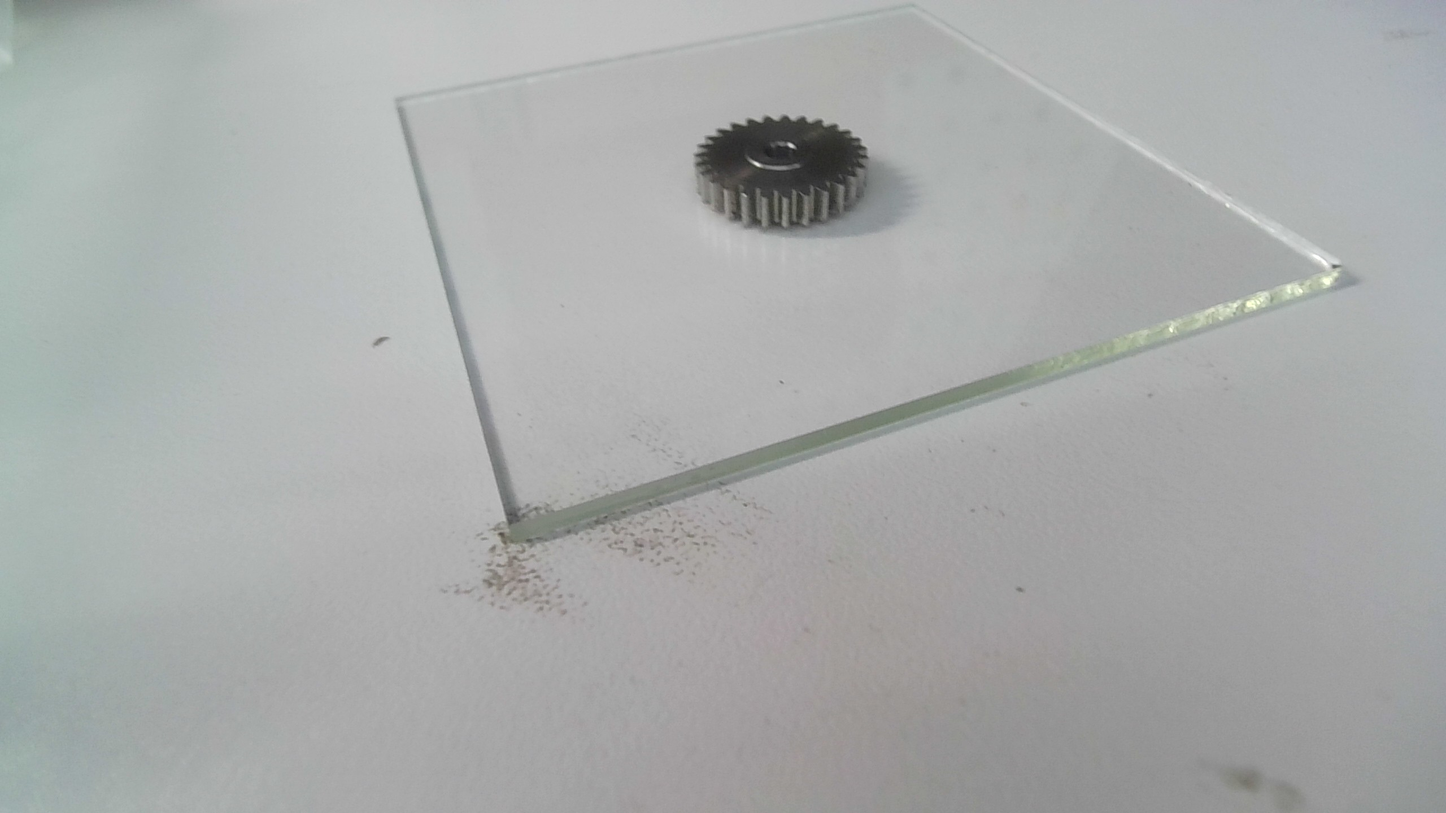gear: (692, 111, 871, 234)
